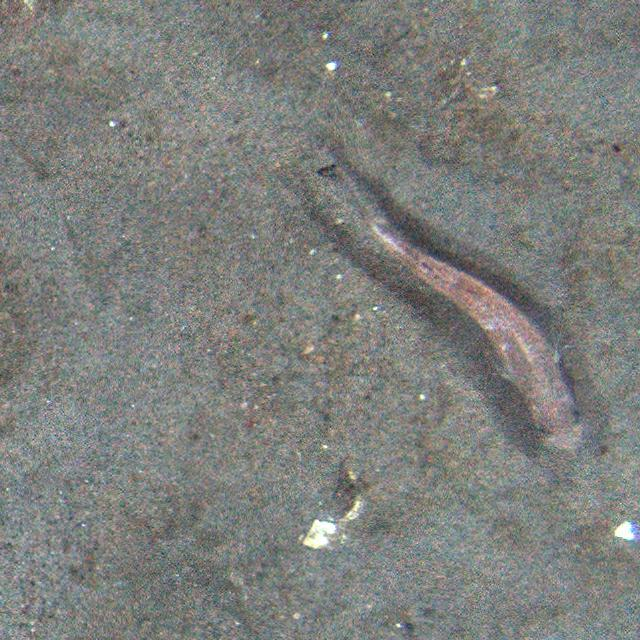roundfish: (331, 155, 586, 454)
